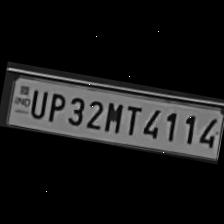1: (175, 108, 198, 144), (158, 106, 180, 142)
2: (80, 93, 106, 130)
3: (61, 90, 86, 127)
4: (194, 110, 222, 148), (138, 102, 164, 140)
M: (100, 96, 125, 134)
P: (44, 87, 68, 123)
T: (118, 98, 143, 136)
U: (25, 84, 48, 119)
